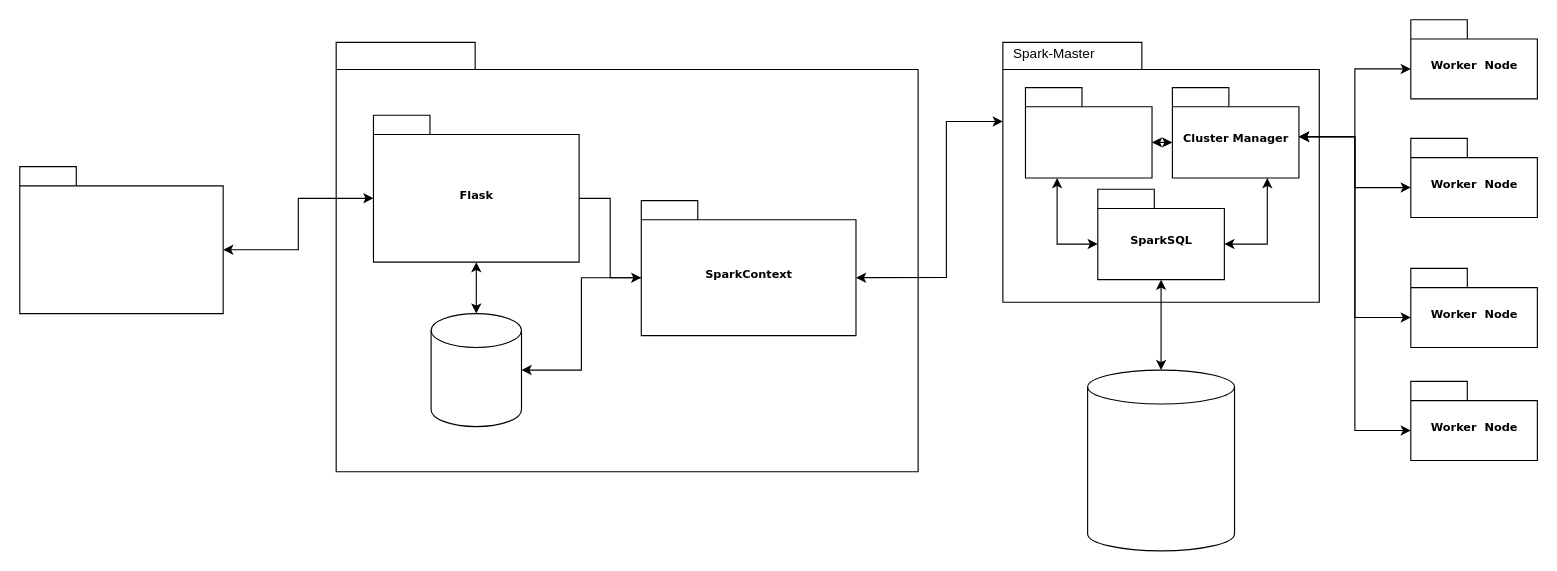
The diagram is 1557 pixels wide and 571 high, and some of its shapes have lost their labels. The shapes that lost their labels are listed below. From the top down, each one's centre as x and y in pixels, then its label:
At (x=1088, y=132): "Jobs".
At (x=121, y=240): "Webbrowser".
At (x=475, y=369): "Filesystem Images Documents".
At (x=1160, y=460): "MairaDB Termfrequency Documentfrequency TFIDF".
